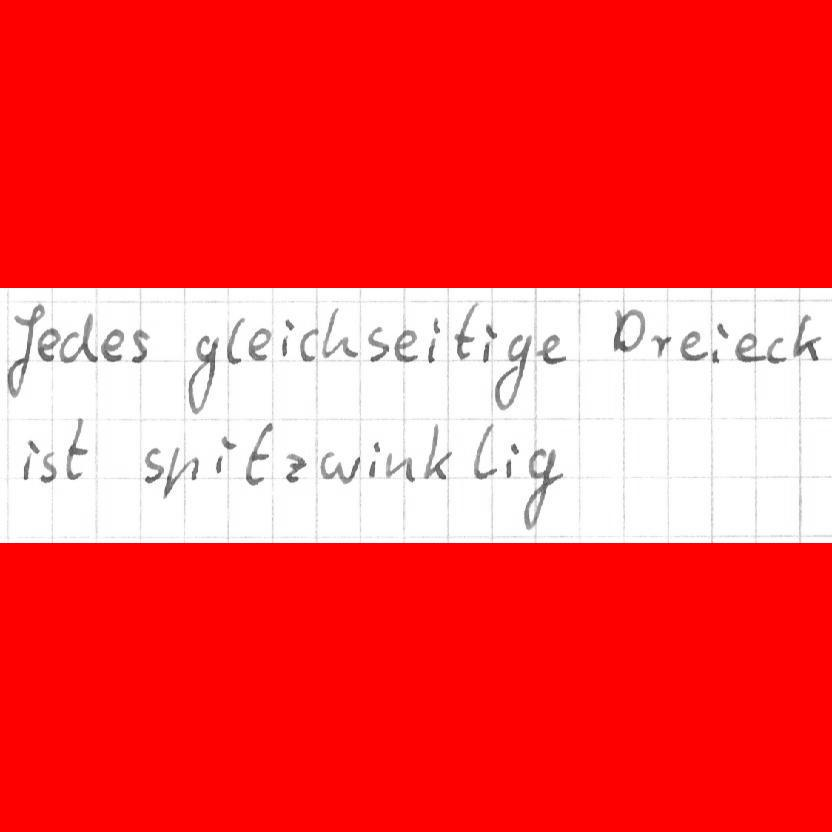Char: (518, 444, 565, 532), (4, 301, 44, 397), (493, 330, 532, 411), (183, 331, 221, 414), (161, 440, 205, 501), (57, 307, 98, 365), (418, 422, 456, 481), (321, 306, 362, 359), (242, 420, 274, 487), (450, 296, 481, 362), (62, 415, 93, 481), (609, 302, 647, 355), (791, 310, 824, 362), (317, 448, 363, 485), (472, 421, 499, 482), (533, 331, 568, 366), (381, 449, 416, 484), (675, 326, 707, 364), (734, 328, 766, 365), (477, 319, 503, 364), (98, 326, 127, 365), (127, 326, 156, 365), (17, 432, 40, 481), (140, 442, 166, 485), (225, 313, 246, 366), (246, 325, 275, 363), (212, 432, 236, 477), (424, 315, 444, 368), (295, 325, 322, 364), (709, 318, 731, 365), (35, 325, 60, 366), (391, 327, 421, 361), (761, 329, 788, 364), (282, 448, 307, 485), (500, 438, 522, 480), (366, 325, 388, 363), (647, 327, 671, 361), (38, 444, 58, 484), (279, 316, 297, 359), (365, 436, 382, 480)
